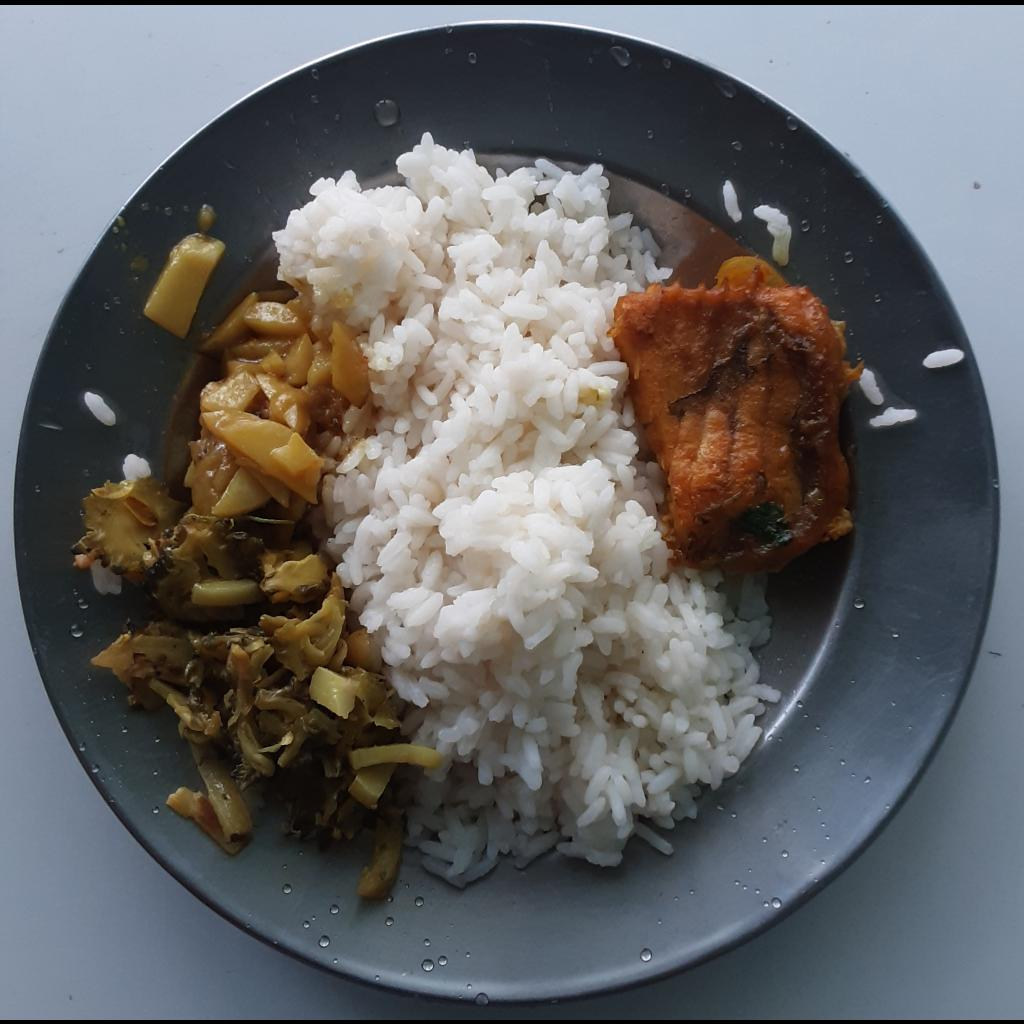fish: (616, 255, 858, 573)
korola-vaji: (75, 468, 442, 905)
potato: (138, 229, 370, 538)
rice: (272, 122, 780, 897)
